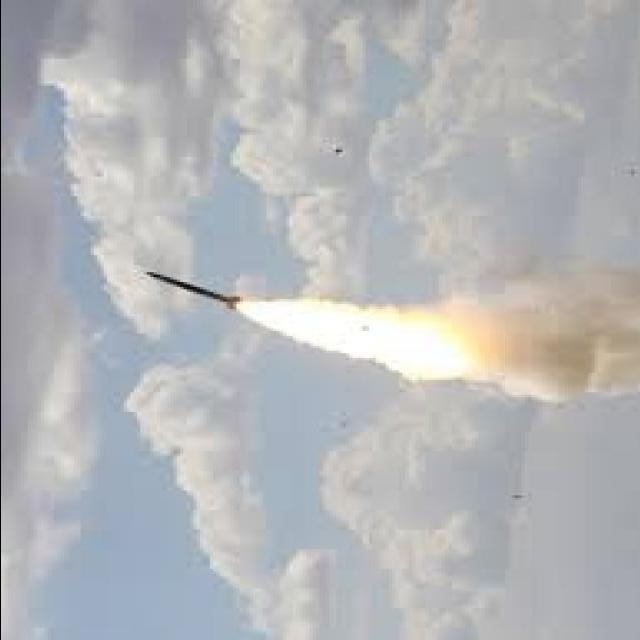Missile: (138, 267, 246, 312)
